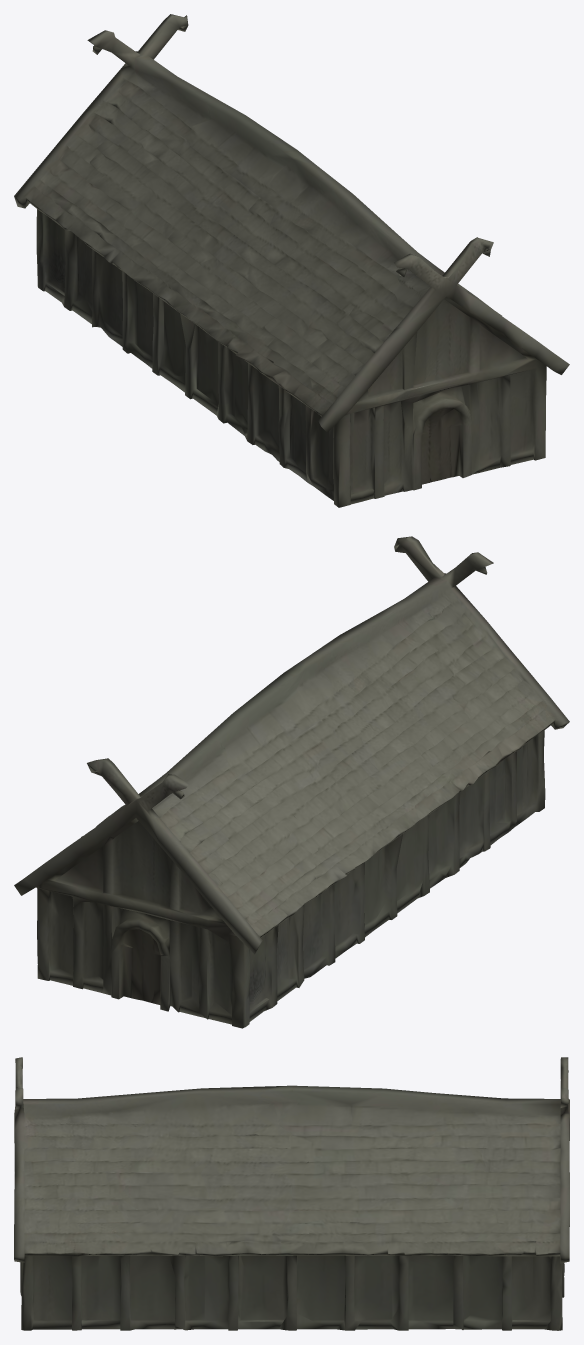
The model's file is hall.glb.
3 renders of one model, top to bottom at view 1: azimuth 30°, elevation 25°; view 2: azimuth 150°, elevation 25°; view 3: azimuth 270°, elevation 25°, orthographic. The views are drawn at different scales.
Parts seen in each view (by area): view 1: tripo_node_9ce213b7-5b57-484a-96f2-96e71d63088b; view 2: tripo_node_9ce213b7-5b57-484a-96f2-96e71d63088b; view 3: tripo_node_9ce213b7-5b57-484a-96f2-96e71d63088b.
Boxes of the visible parts, bbox=[...] form: tripo_node_9ce213b7-5b57-484a-96f2-96e71d63088b: bbox=[14, 14, 569, 507]; tripo_node_9ce213b7-5b57-484a-96f2-96e71d63088b: bbox=[14, 536, 569, 1028]; tripo_node_9ce213b7-5b57-484a-96f2-96e71d63088b: bbox=[14, 1057, 569, 1330].
Bounding box in the file's own units: 0.4602 × 0.4221 × 1.
Materials: 1 (1 with a texture image).
